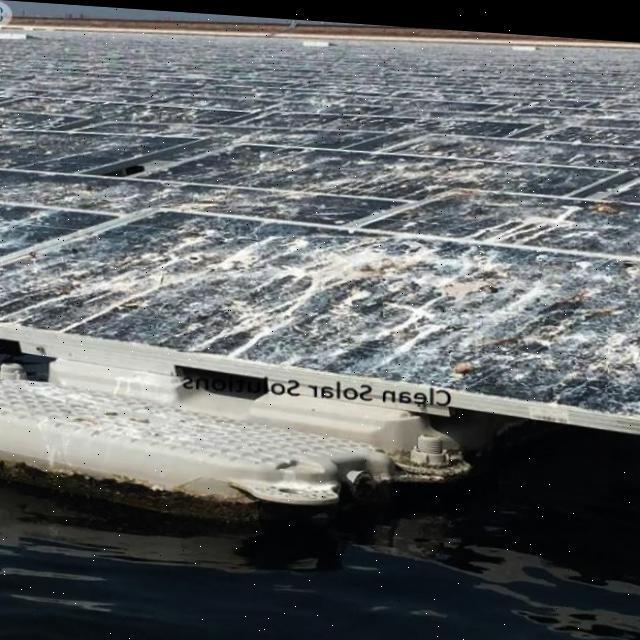Surface Contaminant: (0, 25, 639, 404)
